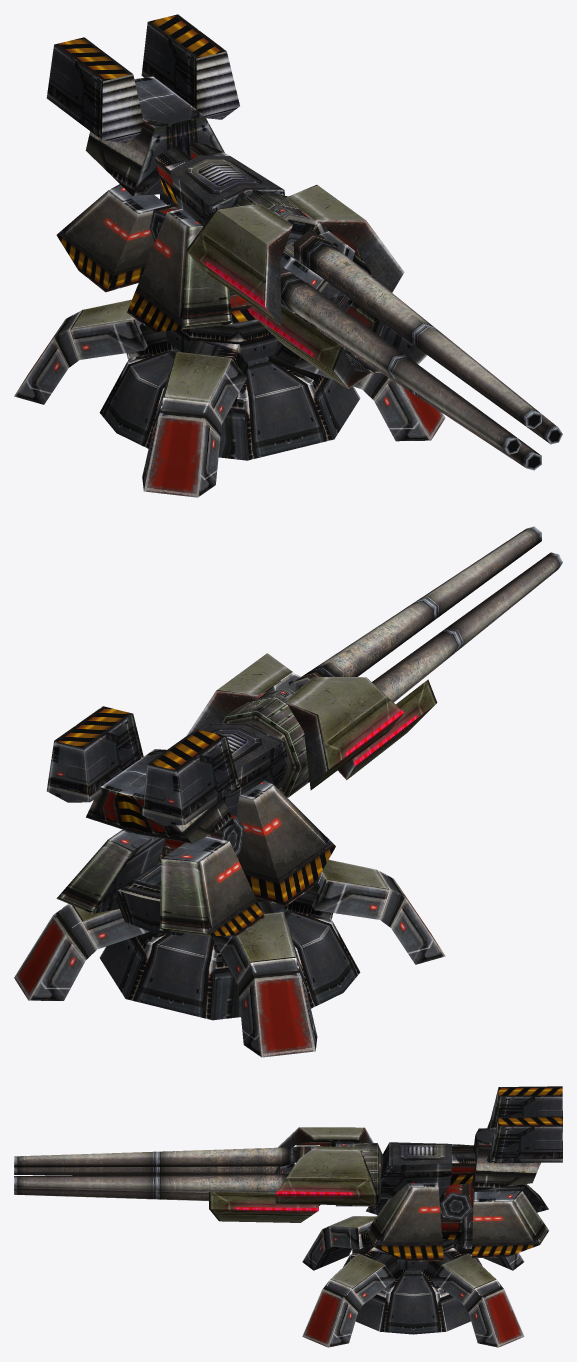
The model's file is turret-01.DAE.
The picture shows the model from 3 angles, top to bottom: view 1: azimuth 30°, elevation 25°; view 2: azimuth 150°, elevation 25°; view 3: azimuth 270°, elevation 25°; orthographic projection. The views are drawn at different scales.
Parts seen in each view (by area): view 1: turret-01; view 2: turret-01; view 3: turret-01.
Part boxes in pixels (left/top/right/bottom): turret-01: left=14, top=14, right=562, bottom=497; turret-01: left=14, top=526, right=562, bottom=1057; turret-01: left=14, top=1086, right=562, bottom=1347.
Bounding box in the file's own units: 4.68 × 11.25 × 4.37.
